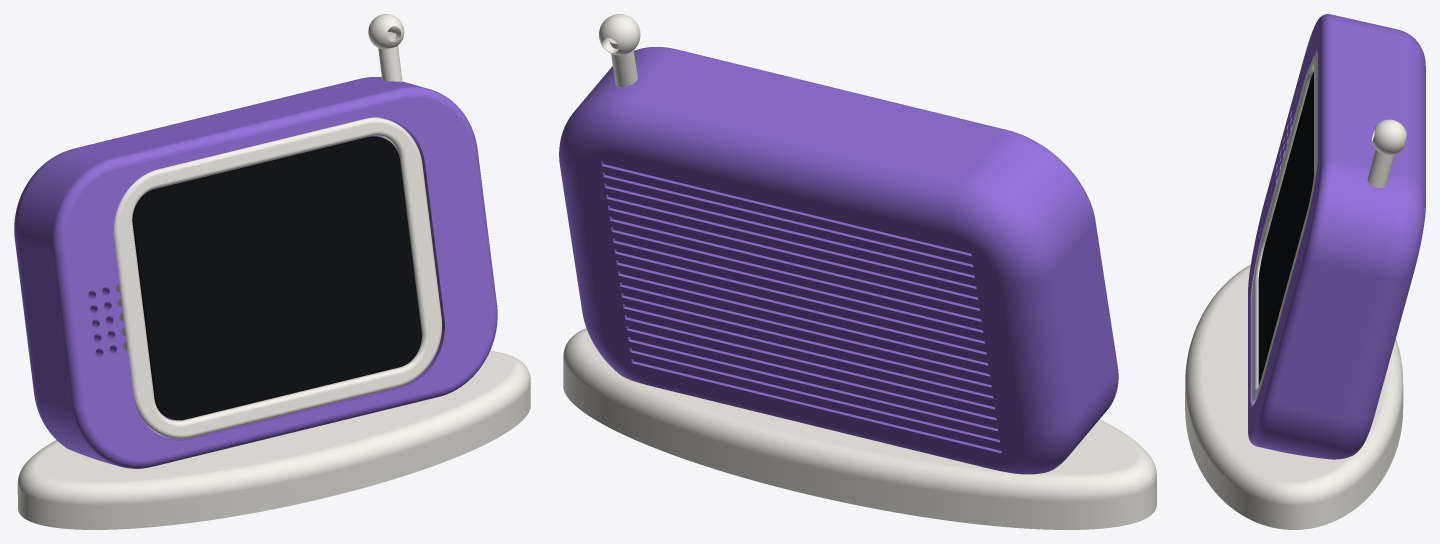
The picture shows the model from 3 angles, left to right: view 1: azimuth 30°, elevation 25°; view 2: azimuth 150°, elevation 25°; view 3: azimuth 270°, elevation 25°; orthographic projection. The views are drawn at different scales.
Visible parts, largest first — view 1: govde, ekran, kaide, crt_cerceve, anten_anahtarlik; view 2: govde, kaide, anten_anahtarlik; view 3: govde, kaide, ekran, crt_cerceve, anten_anahtarlik.
Part boxes in pixels (left/top/right/bottom): govde: left=14, top=77, right=497, bottom=468; ekran: left=132, top=136, right=421, bottom=420; kaide: left=17, top=351, right=530, bottom=529; crt_cerceve: left=113, top=117, right=442, bottom=438; anten_anahtarlik: left=368, top=14, right=404, bottom=81; govde: left=559, top=47, right=1118, bottom=474; kaide: left=563, top=328, right=1156, bottom=529; anten_anahtarlik: left=599, top=14, right=640, bottom=86; govde: left=1248, top=14, right=1425, bottom=459; kaide: left=1185, top=264, right=1403, bottom=529; ekran: left=1258, top=72, right=1313, bottom=385; crt_cerceve: left=1252, top=53, right=1317, bottom=403; anten_anahtarlik: left=1367, top=119, right=1406, bottom=187.
Size of the model in its own units: 0.116 by 0.0812 by 0.0486.
